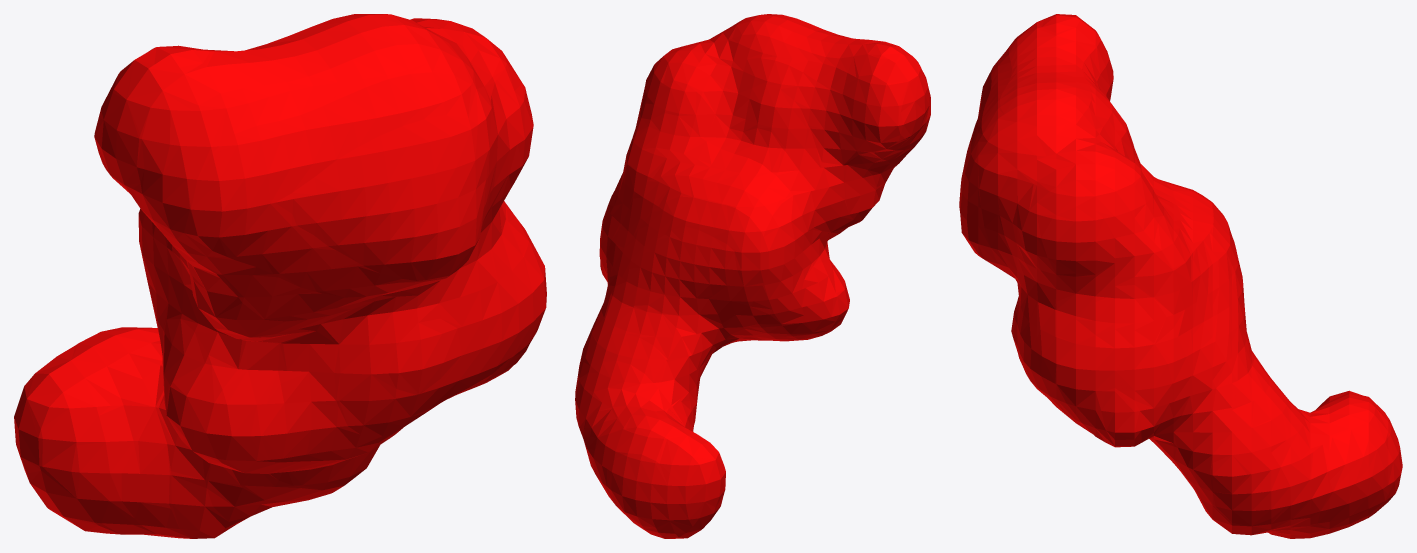
The model's file is rplX_coarse.dae.
3 views of the same model, side by side, from view 1: azimuth 30°, elevation 25°; view 2: azimuth 150°, elevation 25°; view 3: azimuth 270°, elevation 25° (orthographic). The views are drawn at different scales.
Visible parts, largest first — view 1: rplX; view 2: rplX; view 3: rplX.
Part boxes in pixels (box(x1,y1,x2,y2)): rplX: box(14, 14, 546, 538); rplX: box(575, 14, 930, 538); rplX: box(959, 14, 1402, 538).
Size of the model in its own units: 38.05 by 52.13 by 45.79.
